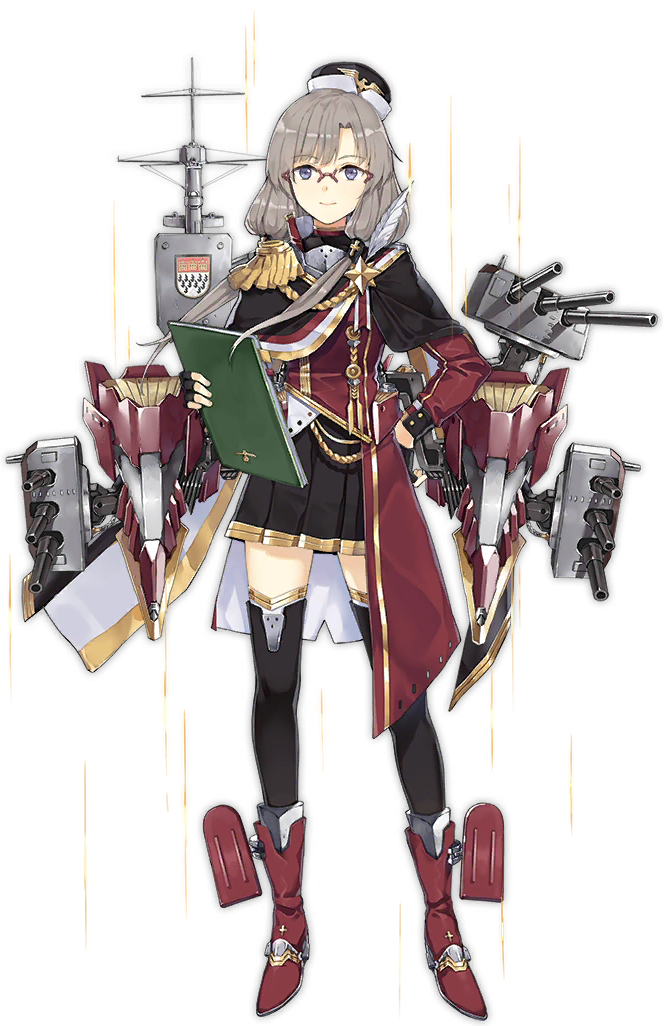person: (62, 77, 594, 762)
